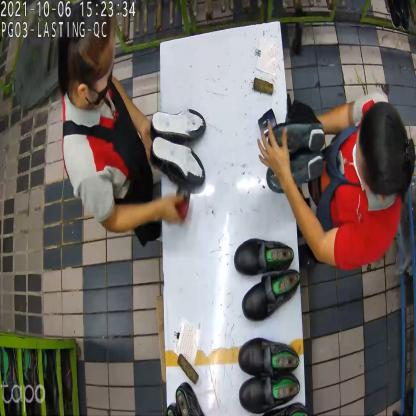shoes: (234, 238, 302, 323), (148, 100, 209, 194), (266, 98, 326, 190), (238, 332, 300, 414)
stamp: (259, 107, 277, 136)
